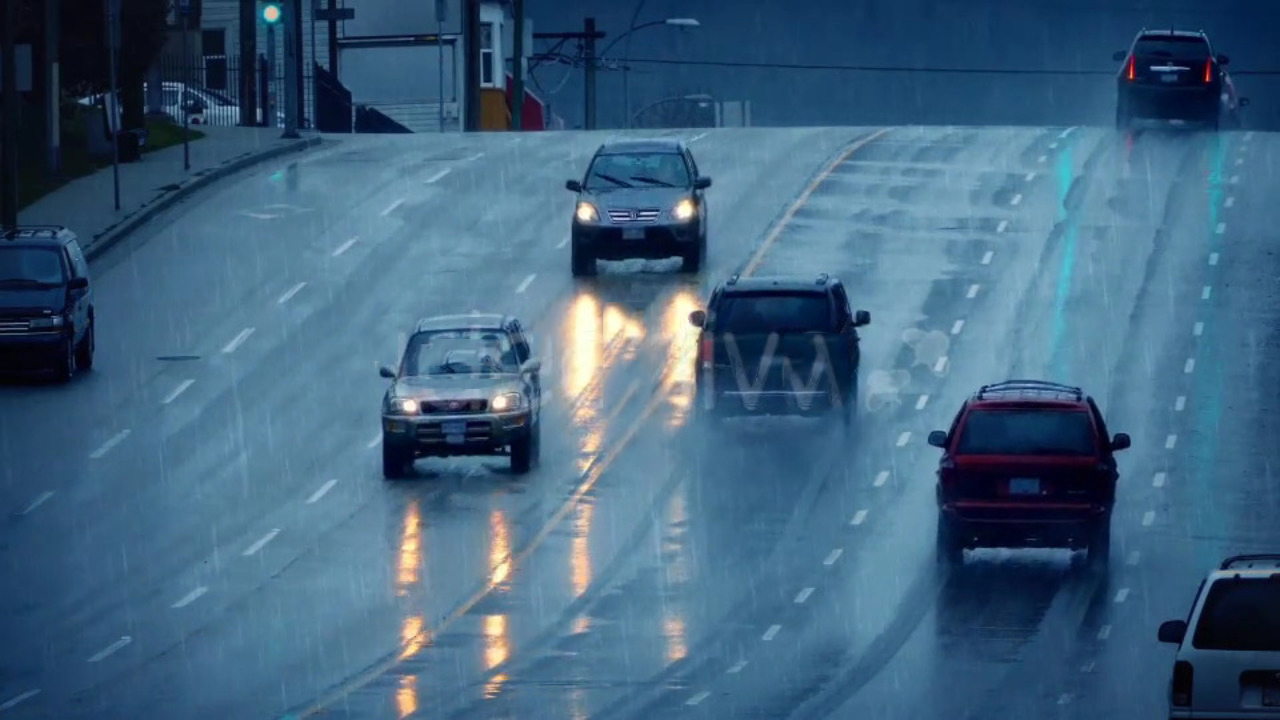car: (930, 384, 1123, 569), (374, 307, 540, 481), (690, 280, 863, 422), (567, 141, 713, 274), (0, 225, 101, 386), (1157, 555, 1254, 674), (1108, 30, 1219, 124)
